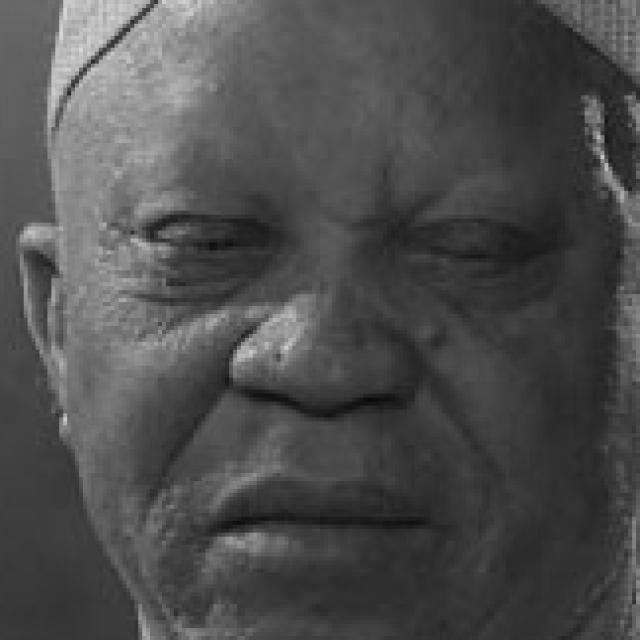real: (45, 0, 640, 640), (98, 178, 567, 304)
